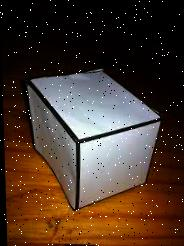cube: (25, 61, 163, 218)
